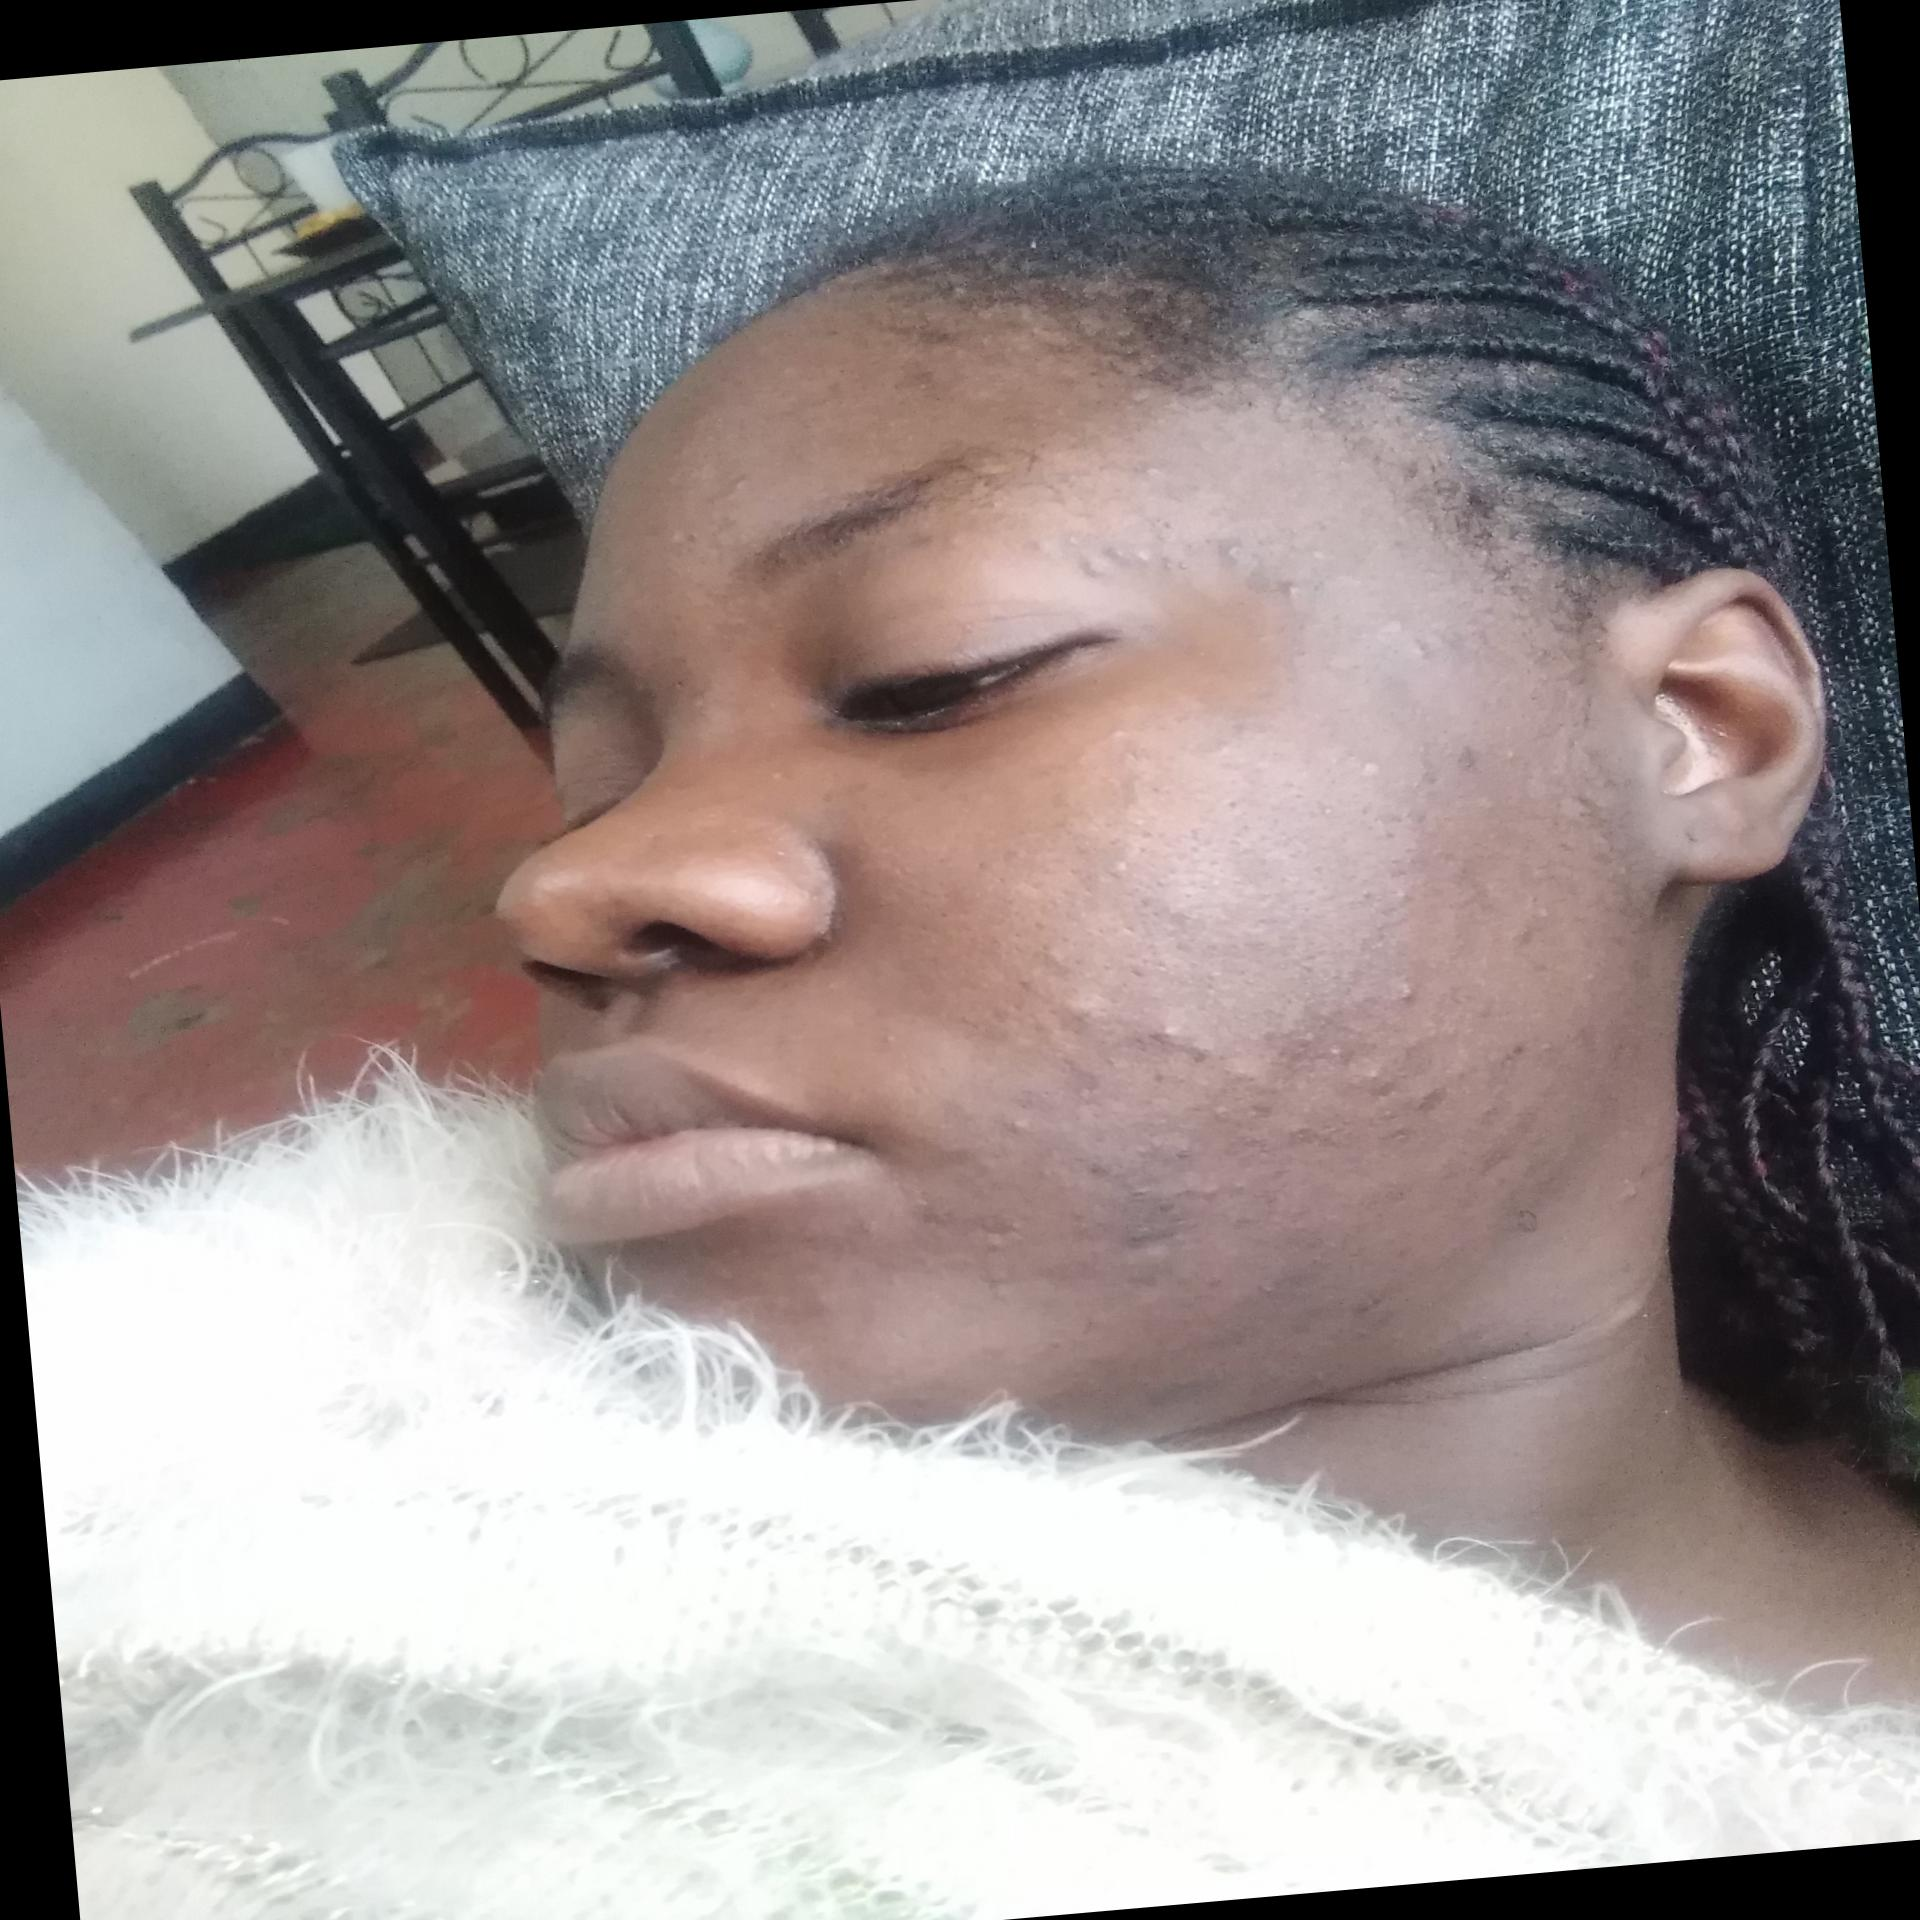Acne: (1104, 1173, 1217, 1255), (1074, 536, 1164, 584), (1382, 605, 1442, 670), (1143, 1013, 1218, 1060), (1050, 986, 1108, 1030), (902, 526, 971, 559), (1276, 1115, 1331, 1153), (712, 468, 758, 512), (1496, 916, 1553, 949), (1356, 1055, 1394, 1101), (1414, 1074, 1452, 1118), (1185, 1175, 1236, 1206), (1275, 566, 1315, 605), (802, 1282, 847, 1315), (1451, 742, 1493, 777), (1095, 851, 1138, 886), (1350, 1284, 1387, 1322), (1387, 976, 1429, 1009), (1029, 939, 1065, 976), (1368, 1125, 1415, 1152), (1132, 455, 1173, 485), (997, 1111, 1039, 1139), (1218, 536, 1254, 570), (1029, 529, 1065, 559), (1227, 1062, 1264, 1088), (774, 357, 809, 383), (1097, 721, 1129, 749), (661, 524, 693, 550), (1322, 1034, 1349, 1065), (1210, 1097, 1236, 1129), (1387, 877, 1414, 905), (1354, 753, 1378, 781), (1145, 1134, 1173, 1155)
Englarged Pores: (1016, 789, 1347, 1013)
